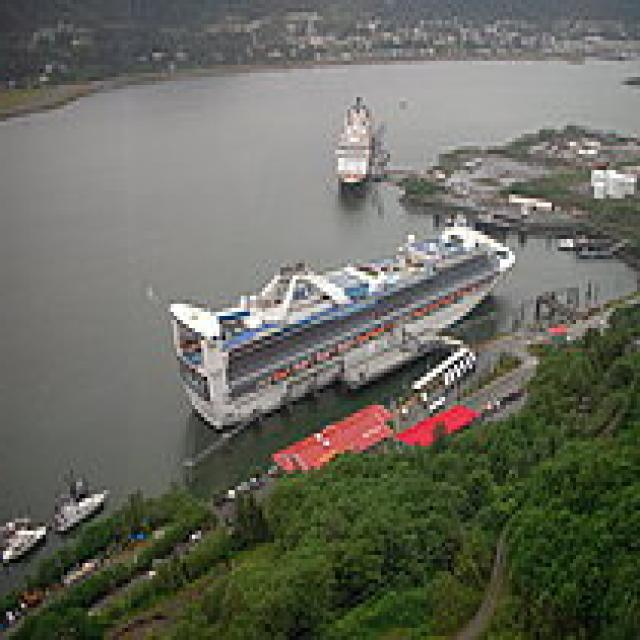Cruise: (168, 211, 518, 434), (332, 89, 381, 182)
